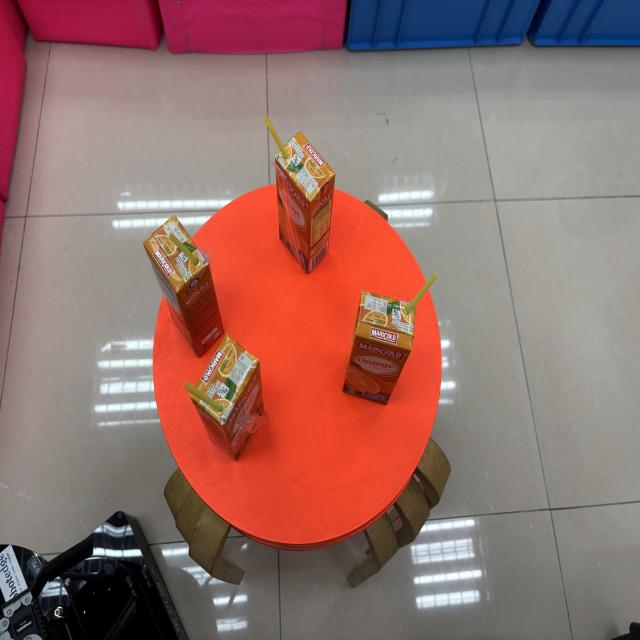drink_carton: (332, 269, 445, 427), (130, 197, 231, 365), (254, 103, 340, 278), (177, 328, 278, 472)
